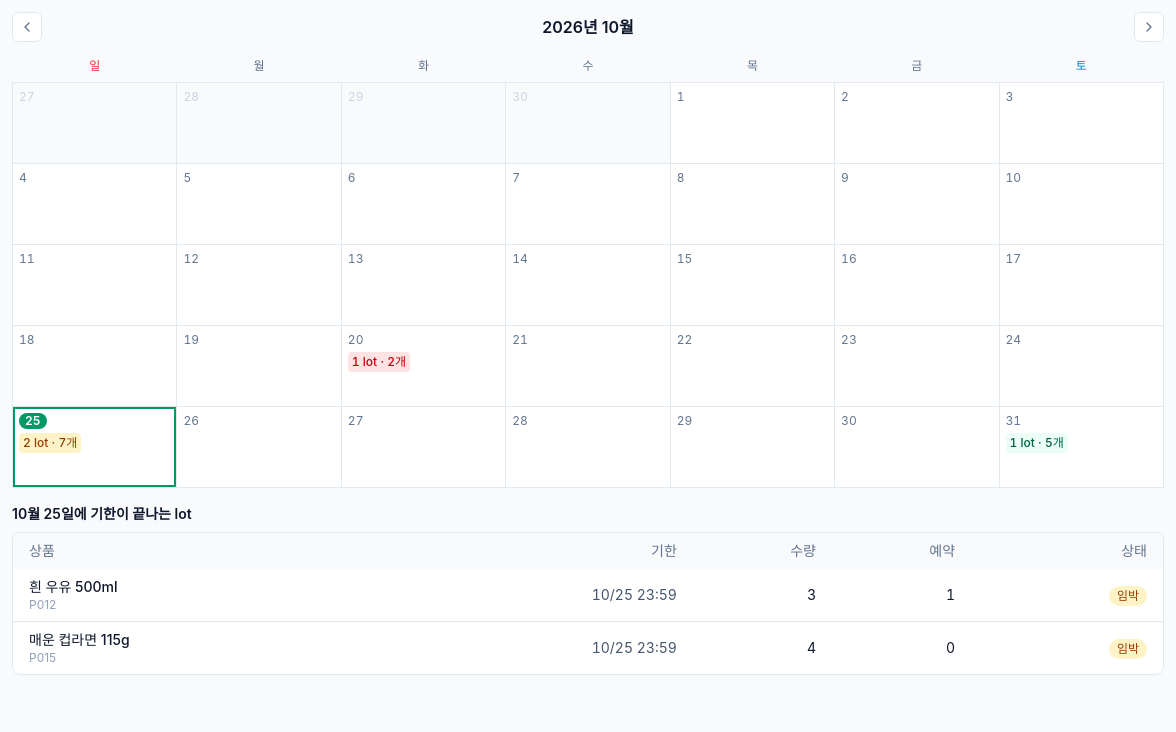
Test case: 유통기한 달력 › 다음 달·이전 달 버튼으로 그 달을 부르고, 고른 날짜는 지운다
The width and height of the screenshot is (1176, 732).
What coordinates should you click on to do the following:
click the button named "다음 달"
I would click on:
 (1149, 27)
Its box is [1134,12,1164,42].
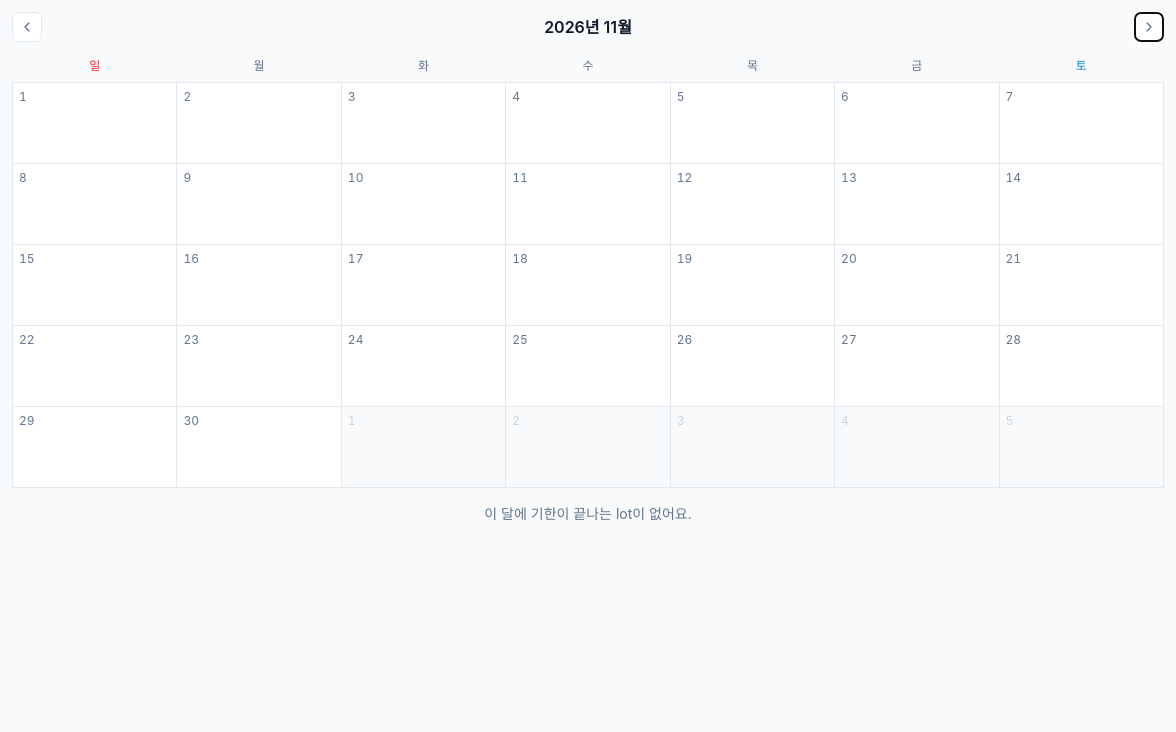
Result: the heading "2026년 11월" is shown at [544,15,632,39]
Result: the text "이 달에 기한이 끝나는 lot이 없어요." is shown at [484,505,692,522]
What coordinates should you click on to do the following:
click the button named "이전 달"
I would click on:
 (27, 27)
Its box is [12,12,42,42].
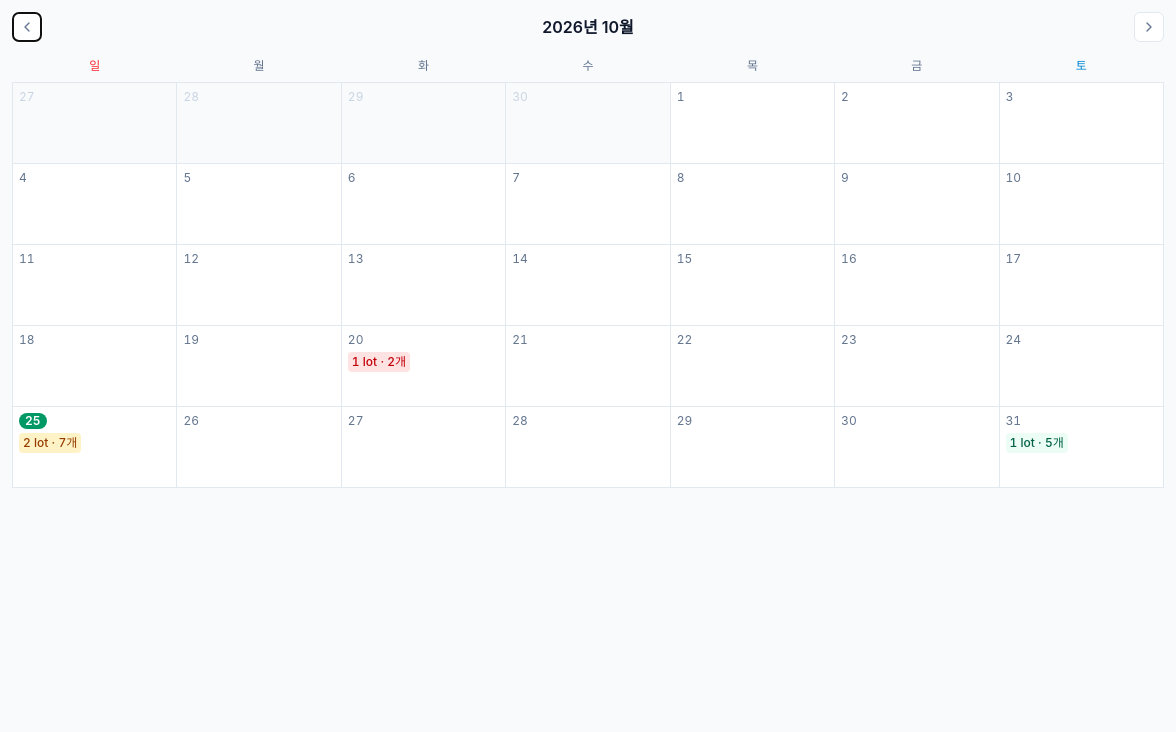
What coordinates should you click on to do the following:
click the button named "이전 달"
I would click on:
 (27, 27)
Its box is [12,12,42,42].
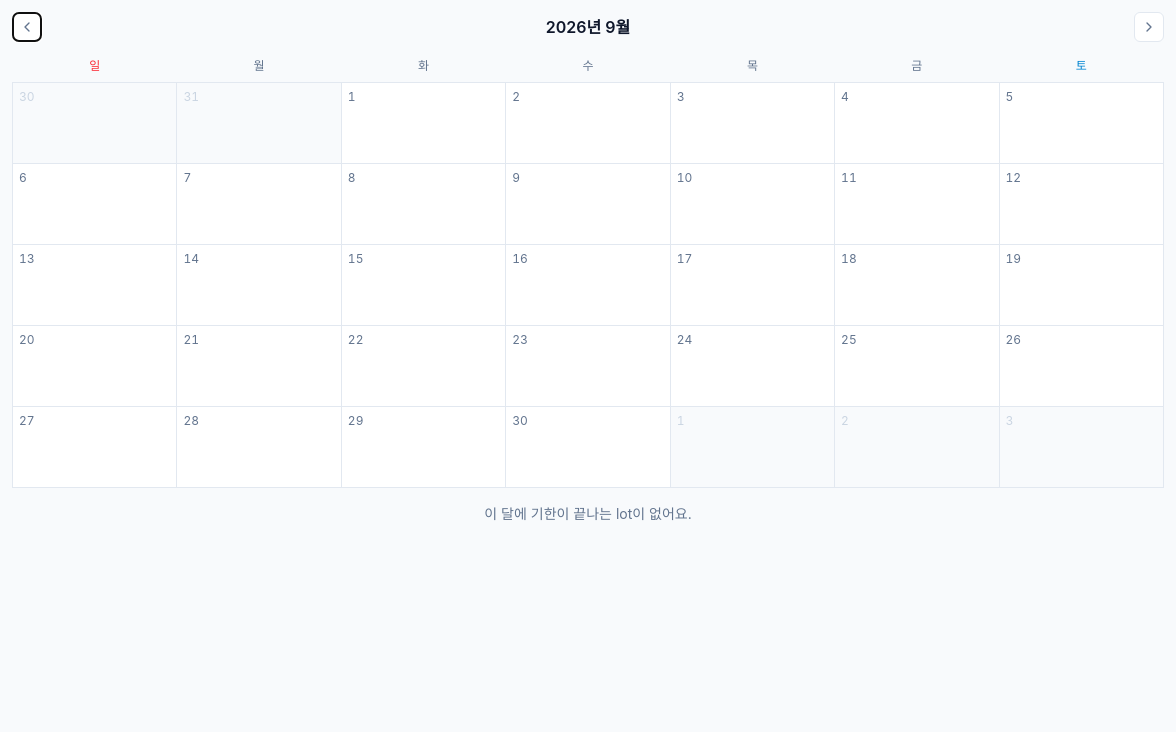
Result: the heading "2026년 9월" is shown at [546,15,630,39]
